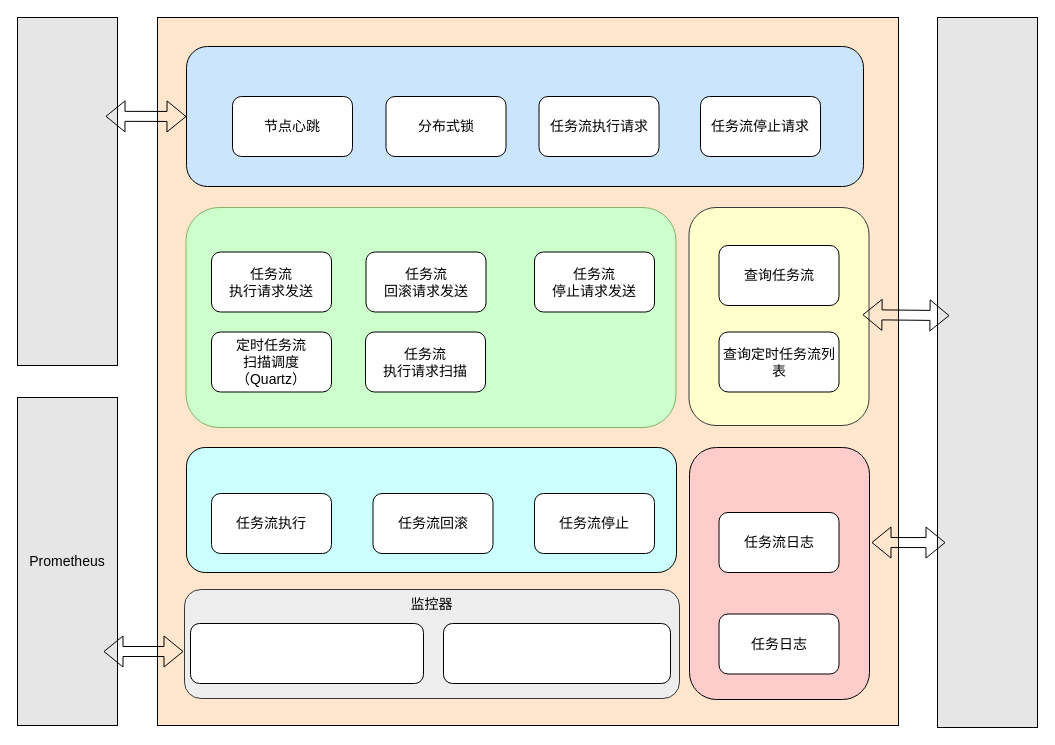
This 1055x745 diagram has some shape labels left out. The box of each missing label's shape, as (x1, y1, x2, y2) in pixels:
任务流执行器: (186, 446, 676, 572)
任务流查询器: (688, 206, 869, 426)
任务流调度器: (185, 206, 676, 428)
分布式协调服务: (16, 16, 118, 366)
外部系统 或 数据库: (936, 16, 1038, 728)
指标发布 （ micrometer-registry-prometheus ）: (190, 622, 424, 684)
指标采集 （Micrometer）: (442, 622, 670, 684)
日志器: (688, 446, 870, 700)
集群控制器: (186, 46, 864, 186)
